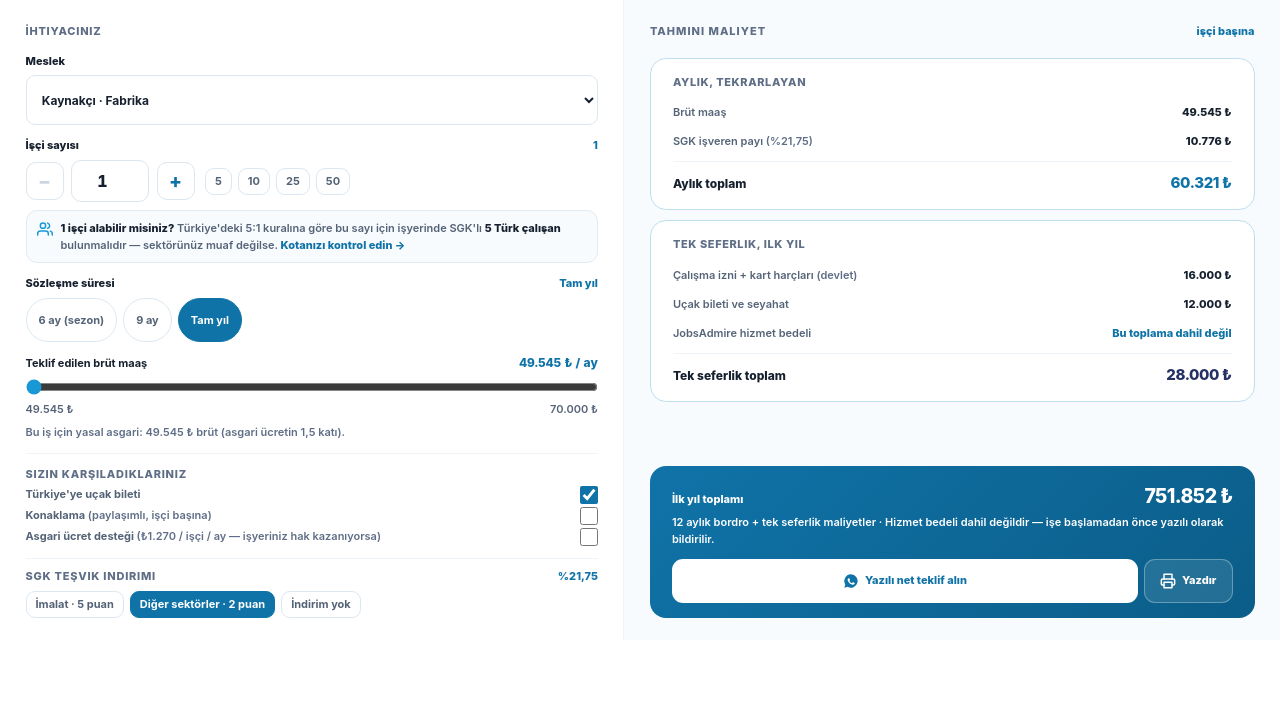
Scenario: CalculatorIsland › a 6-month season shows the seasonal note and the season title
Click the radio button labelled "6 ay (sezon)": (71, 320) [26, 298, 117, 342]
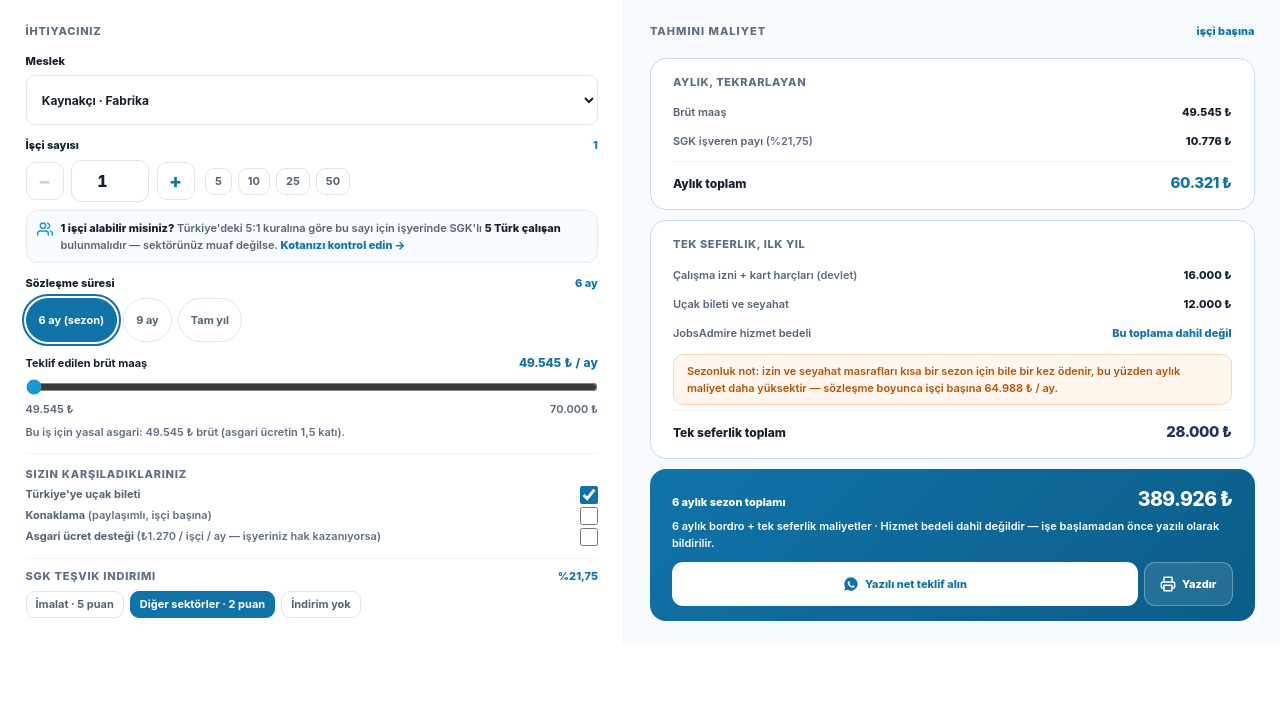
Expected: the text with test id "calc-seasonal" shows "64.988 ₺", [984, 381, 1055, 395]
Expected: the text with test id "calc-total-title" reads "6 aylık sezon toplamı", [672, 496, 786, 510]
Expected: the text with test id "calc-year-total" reads "389.926 ₺", [1138, 488, 1232, 512]
